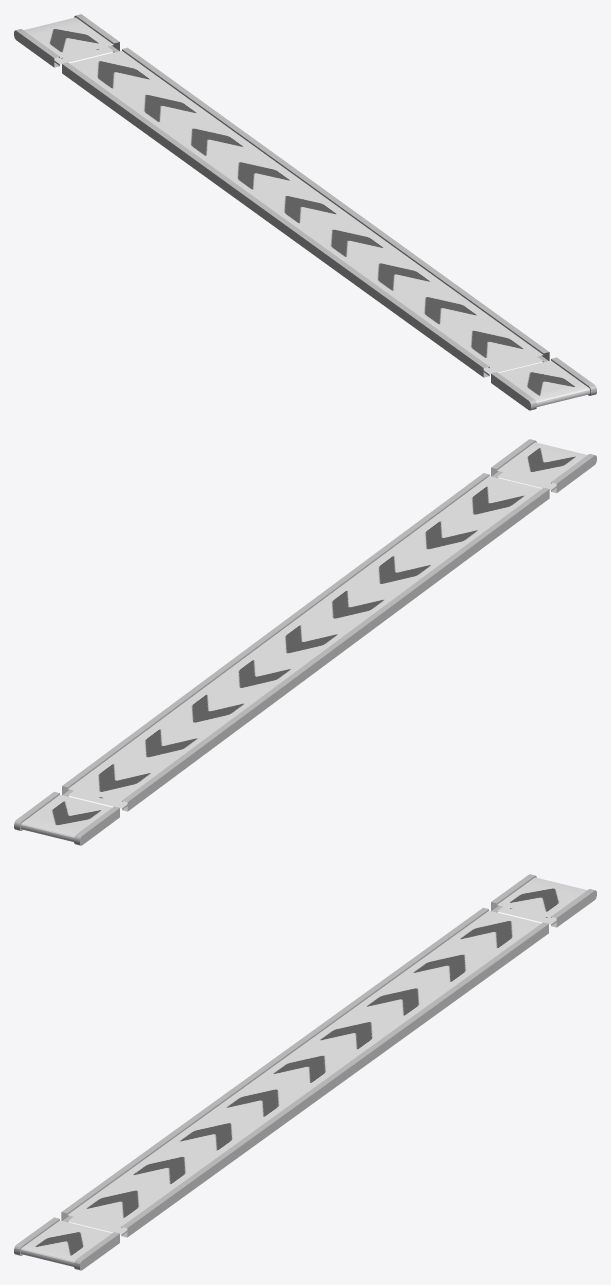
The model's file is bant_test_4.fbx.
3 views of the same model, one above another, from view 1: azimuth 30°, elevation 25°; view 2: azimuth 150°, elevation 25°; view 3: azimuth 330°, elevation 25° (orthographic).
Parts seen in each view (by area): view 1: Cube, Cube.001, Cube.002; view 2: Cube, Cube.002, Cube.001; view 3: Cube, Cube.001, Cube.002.
Part boxes in pixels (x1,y1,x2,y2): Cube: (62,47,549,377); Cube.001: (491,357,596,410); Cube.002: (14,14,119,67); Cube: (62,473,549,811); Cube.002: (14,791,119,845); Cube.001: (491,439,596,493); Cube: (61,907,548,1237); Cube.001: (14,1217,119,1270); Cube.002: (491,874,596,927).
Bounding box in the file's own units: 3384 × 719 × 45979.
